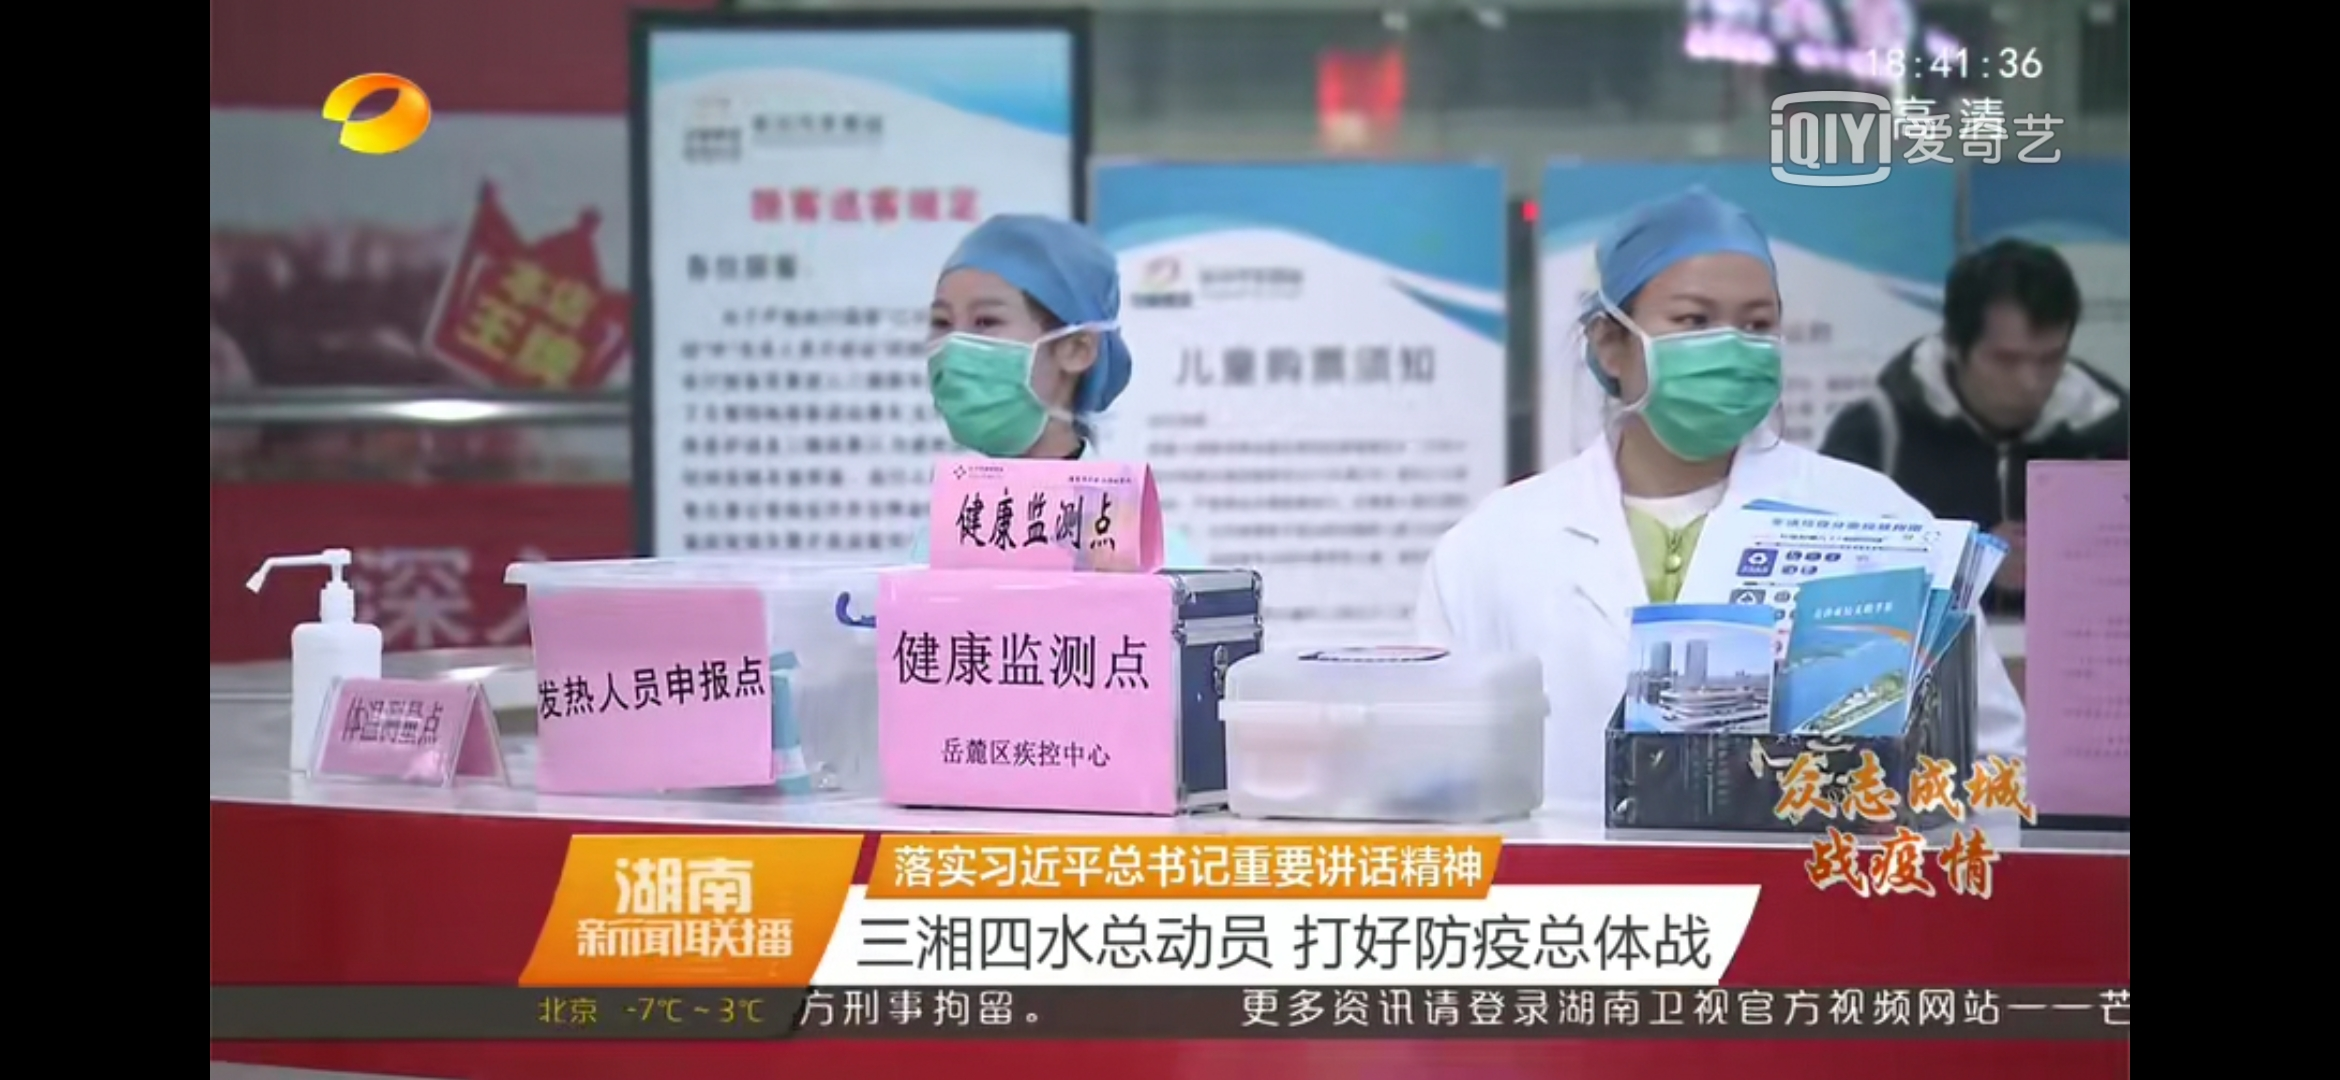correctlyWear: (1580, 261, 1792, 453), (924, 282, 1106, 456)
noWear: (1939, 295, 2080, 437)
